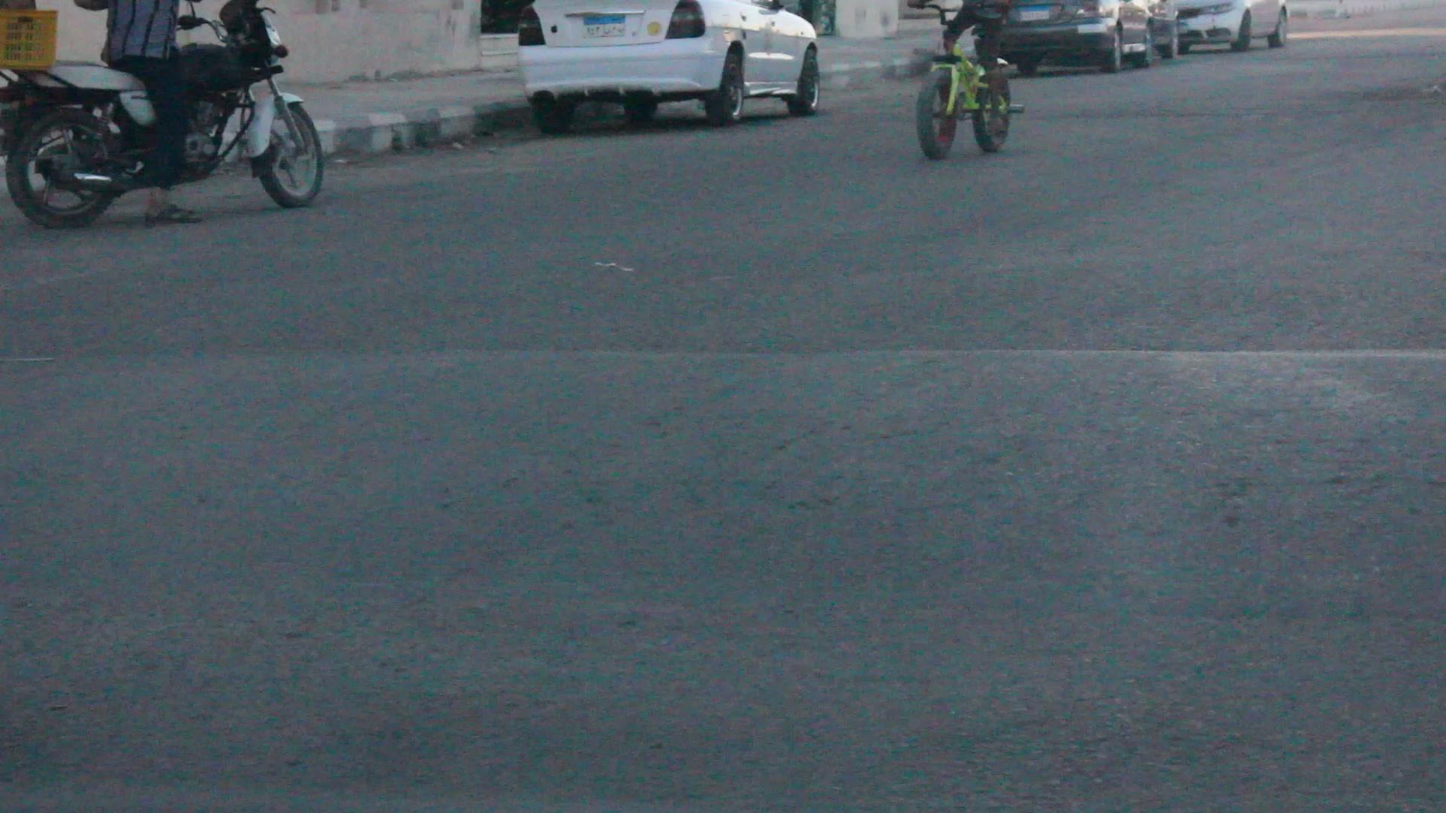Bump: (0, 340, 1444, 812)
